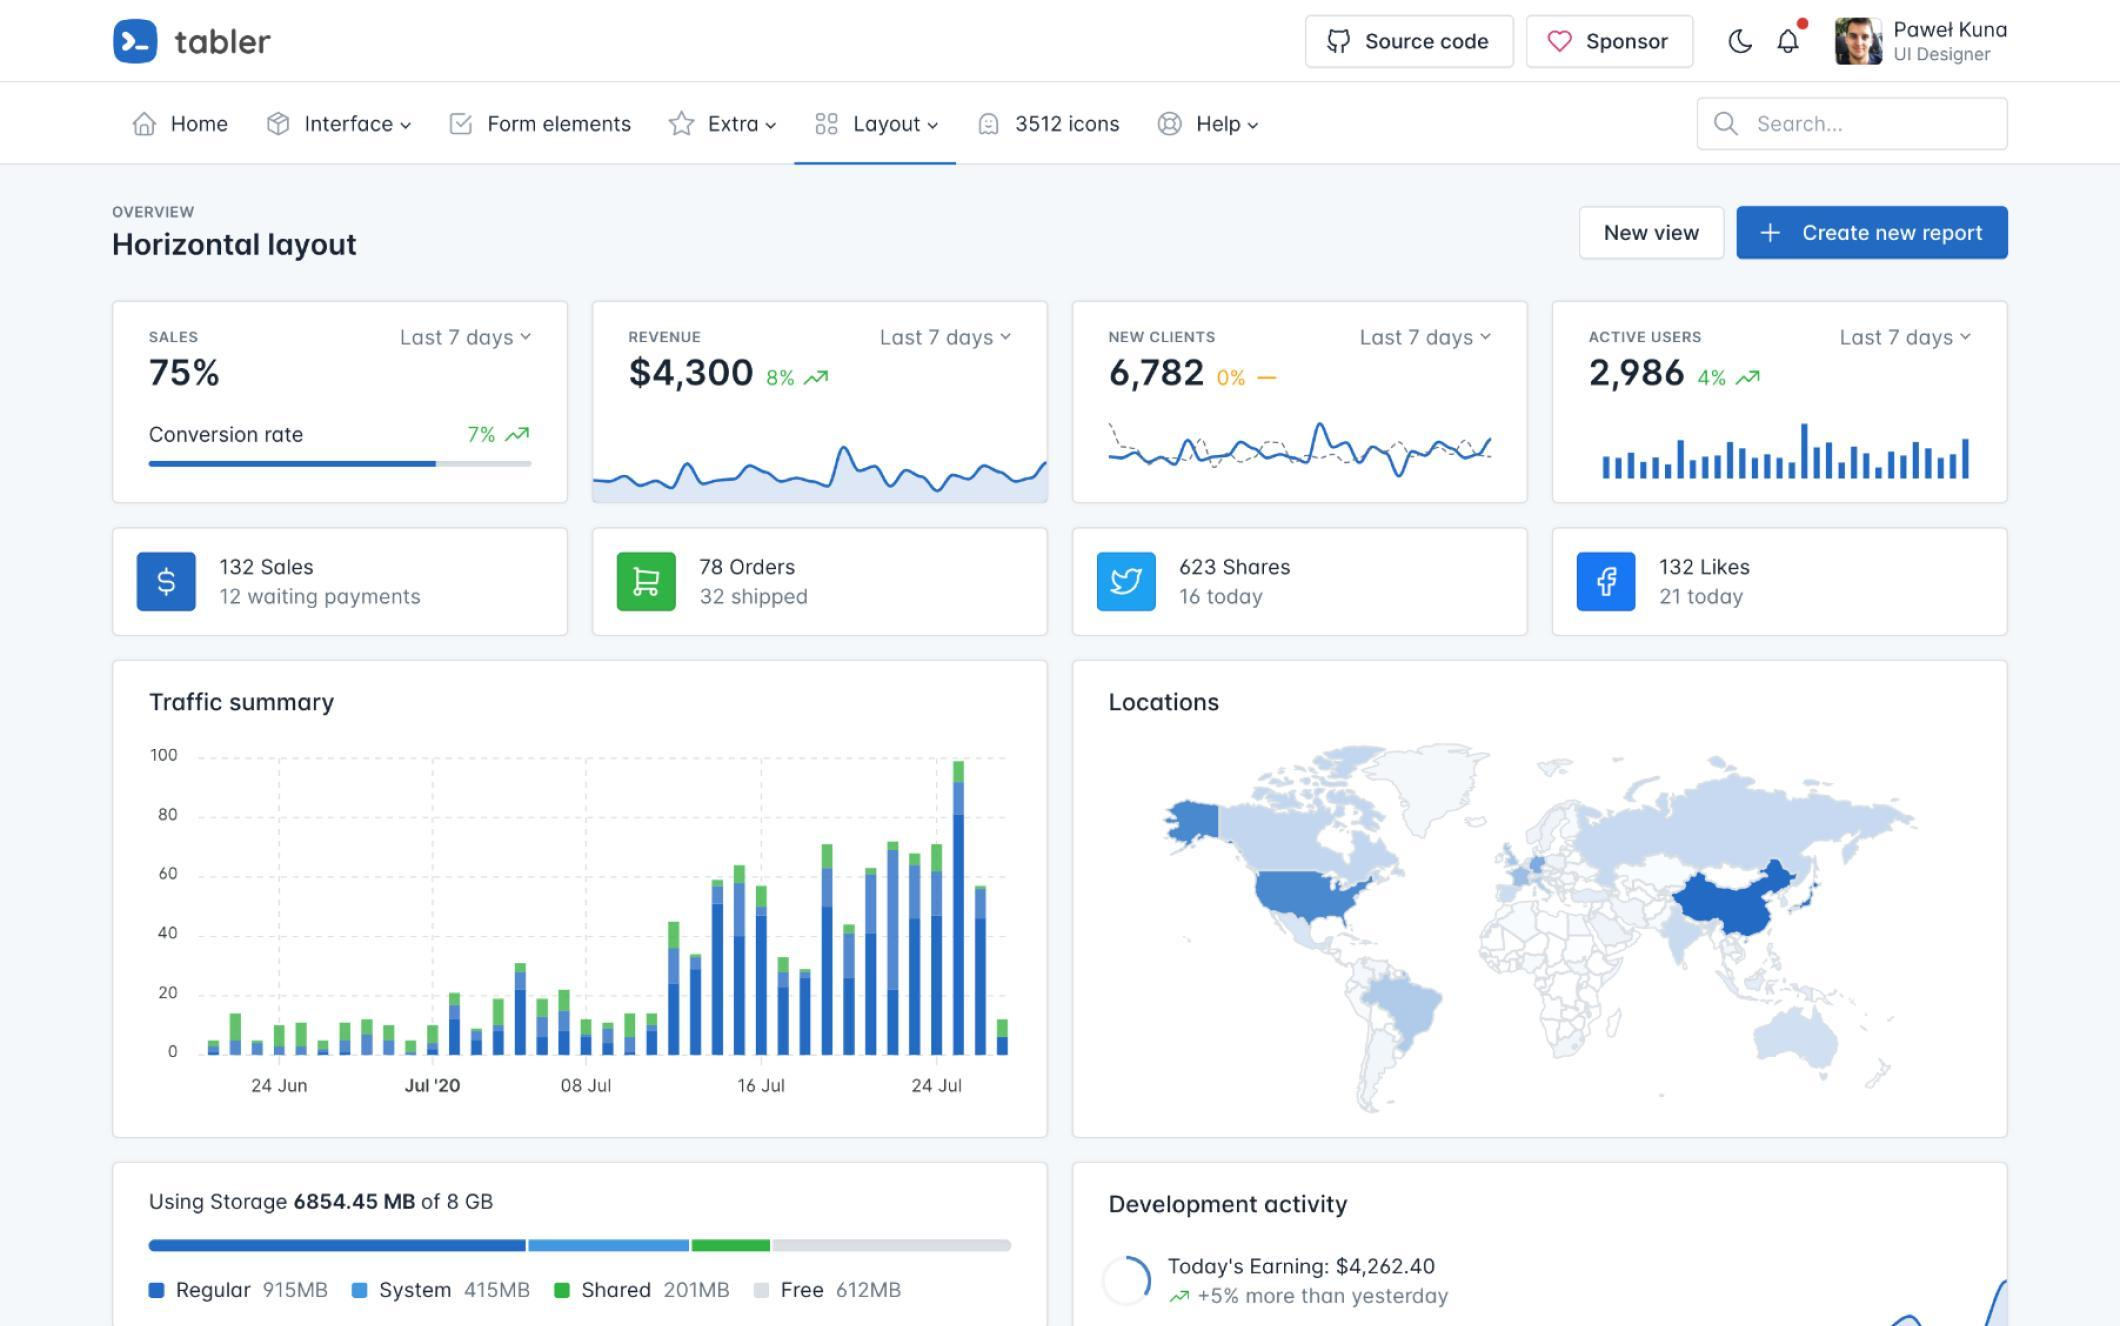button: (1737, 206, 2009, 261), (1304, 15, 1514, 70), (1527, 14, 1694, 69), (1581, 211, 1726, 258)
icon: (137, 551, 199, 614), (619, 551, 678, 613), (1098, 551, 1158, 613), (1578, 551, 1637, 613), (971, 108, 1010, 144), (1153, 108, 1185, 144), (1727, 27, 1760, 60), (810, 108, 845, 137), (1773, 27, 1805, 58), (131, 105, 159, 141), (669, 112, 700, 141), (444, 113, 478, 139), (266, 112, 296, 136), (764, 119, 780, 136), (1246, 118, 1263, 134), (926, 119, 939, 134), (399, 119, 412, 133)
input: (1698, 99, 2009, 150)
label: (102, 225, 379, 266), (1106, 1185, 1358, 1228), (1098, 684, 1230, 729), (148, 684, 348, 713), (171, 18, 286, 64), (489, 112, 638, 139), (1013, 108, 1123, 141), (1585, 328, 1715, 351), (163, 108, 234, 139), (304, 113, 396, 136), (1106, 328, 1223, 345), (852, 115, 926, 137), (625, 328, 709, 348), (706, 112, 762, 139), (1191, 110, 1243, 139), (150, 319, 206, 345)
